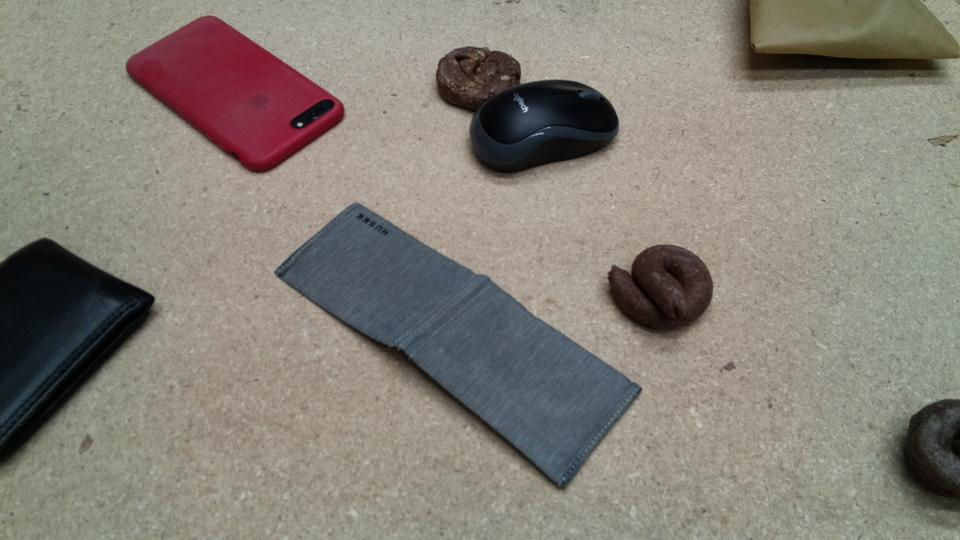poop: (605, 241, 716, 335), (901, 395, 960, 504), (434, 44, 524, 114)
